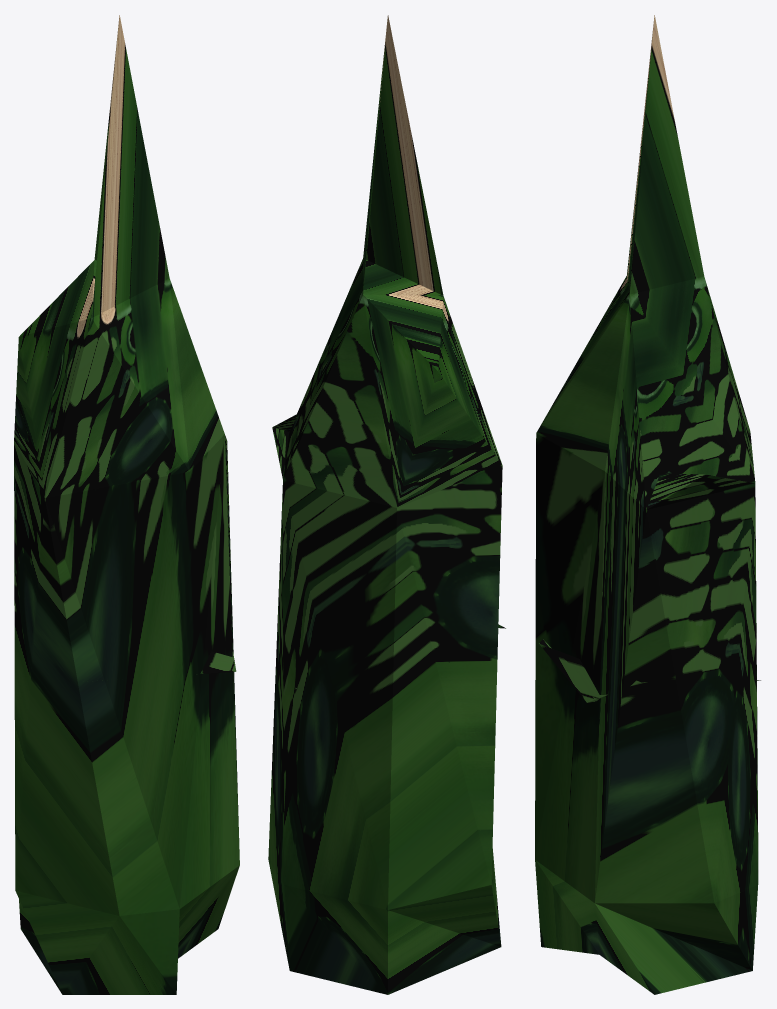
The model's file is bottle_lod2.glb.
The picture shows the model from 3 angles, left to right: view 1: azimuth 30°, elevation 25°; view 2: azimuth 150°, elevation 25°; view 3: azimuth 270°, elevation 25°; orthographic projection.
Parts seen in each view (by area): view 1: geometry_0; view 2: geometry_0; view 3: geometry_0.
Boxes of the visible parts, x1,y1,x2,y2 form: geometry_0: (14,15,239,994); geometry_0: (268,15,505,994); geometry_0: (535,15,760,994).
Size of the model in its own units: 0.1504 by 0.6498 by 0.1439.
Materials: 1 (1 with a texture image).
